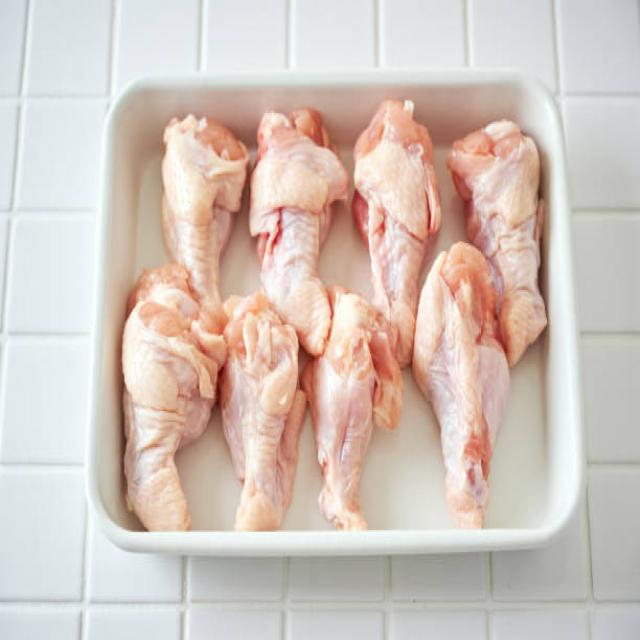chicken thigh: (414, 238, 504, 531), (117, 267, 217, 530), (348, 94, 429, 353), (248, 106, 334, 346), (463, 135, 551, 349), (222, 296, 298, 534), (158, 110, 249, 303)
